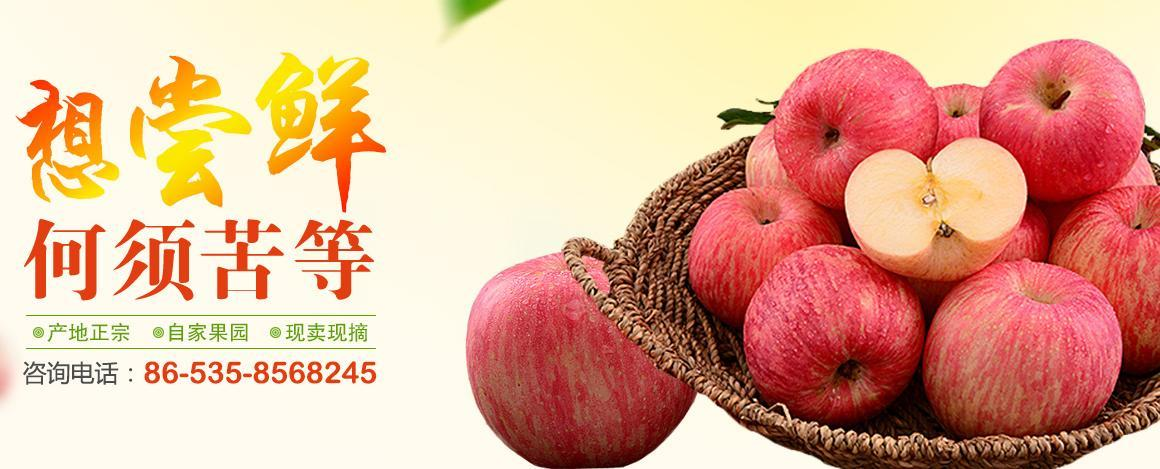apple: (467, 243, 694, 464), (924, 259, 1122, 433), (739, 242, 925, 418), (976, 36, 1145, 197), (768, 47, 939, 203), (1042, 183, 1160, 366), (684, 185, 839, 322)
